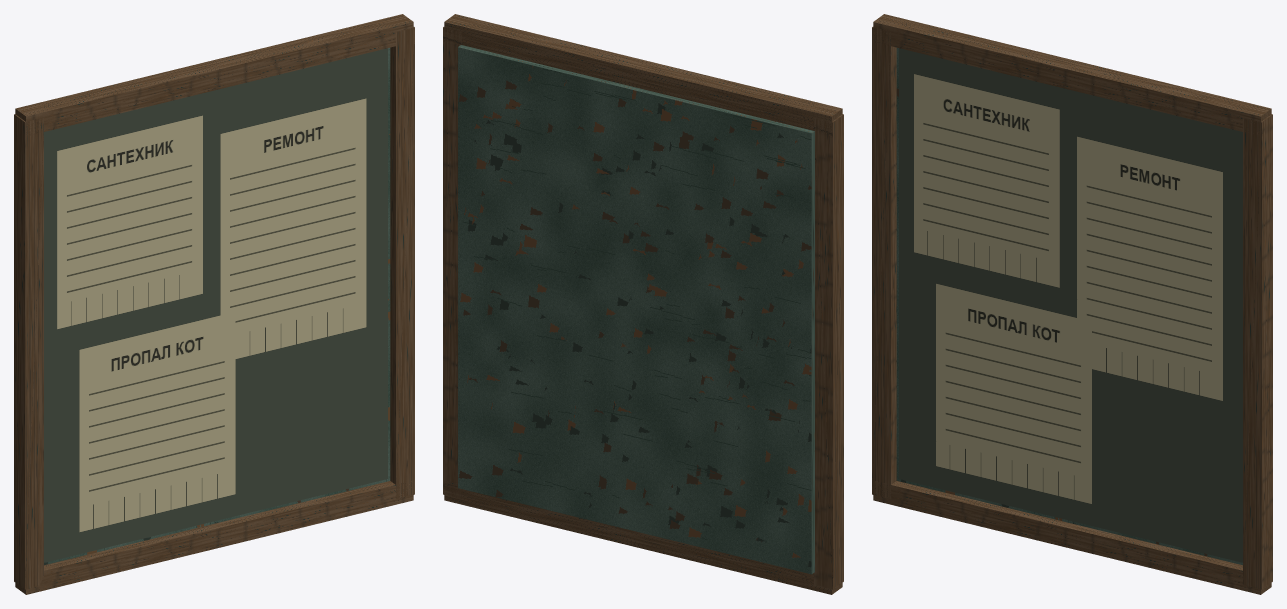
File: CIS_NoticeBoard.glb
The picture shows the model from 3 angles, left to right: view 1: azimuth 30°, elevation 25°; view 2: azimuth 150°, elevation 25°; view 3: azimuth 330°, elevation 25°; orthographic projection.
Parts seen in each view (by area): view 1: CIS_NoticeBoard; view 2: CIS_NoticeBoard; view 3: CIS_NoticeBoard.
Boxes of the visible parts, bbox=[...] form: CIS_NoticeBoard: bbox=[14, 14, 414, 594]; CIS_NoticeBoard: bbox=[443, 14, 843, 594]; CIS_NoticeBoard: bbox=[872, 14, 1272, 594].
Bounding box in the file's own units: 0.925 × 1.09 × 0.058.
Materials: 3 (3 with a texture image).
